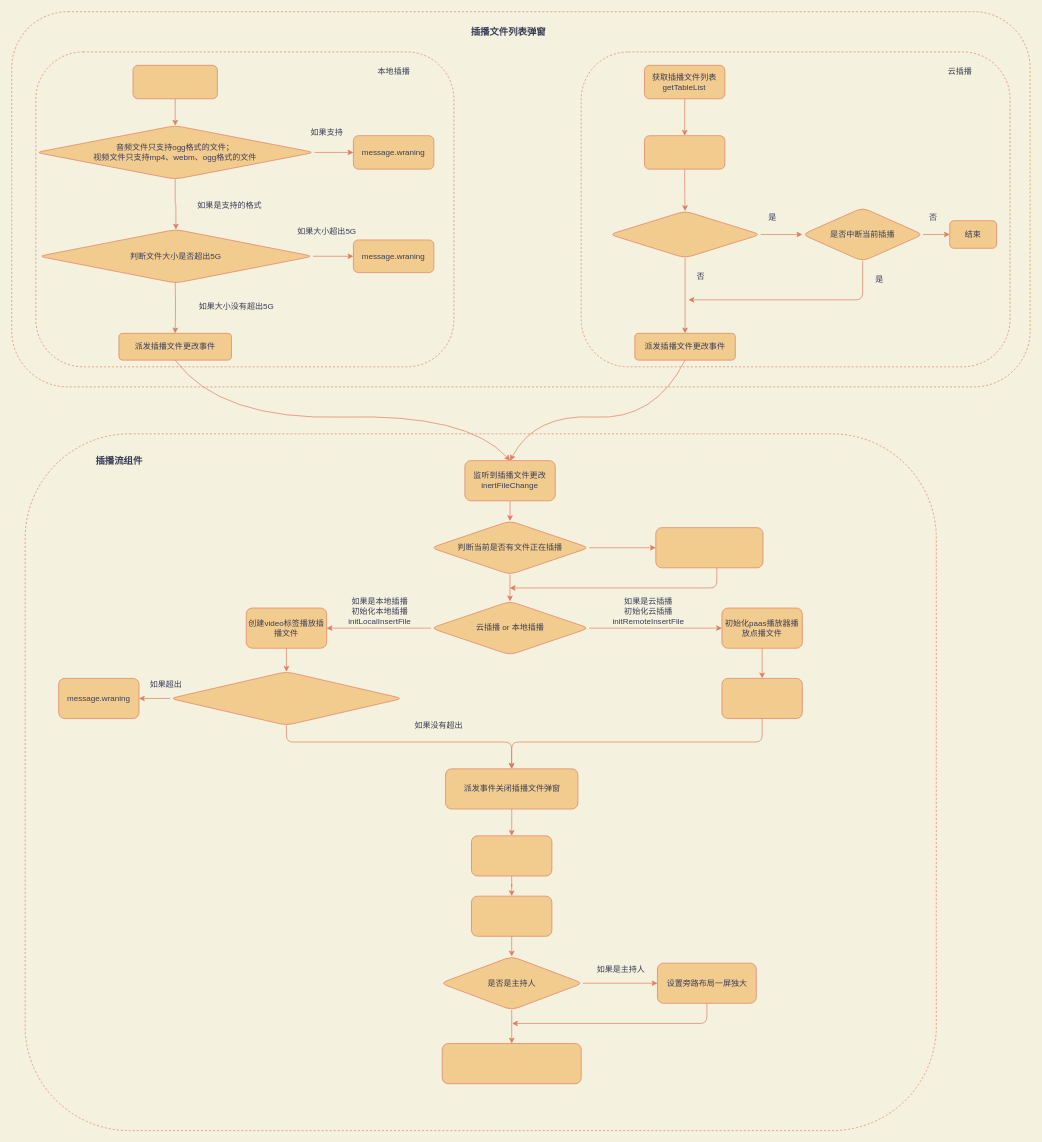
Image size: 1042x1142. Some labels were removed from this diagram. Here are the shapes that lost their labels. From the top down, the centre of each, then its label:
At pixel 174 82: "选择本地文件 selectLocalVideo".
At pixel 684 152: "选择列表项播放 handlePlay".
At pixel 685 234: "当前角色是否正在播放".
At pixel 709 547: "结束插播 closeInsertvideoHandler".
At pixel 286 698: "如果是视频文件，判断分辨率是否超出1280*720".
At pixel 761 698: "派发播放成功事件".
At pixel 511 855: "创建本地插播流 createLocalStream".
At pixel 511 915: "推流 publishInsertStream".
At pixel 511 1063: "更新麦克风状态 updateMicMuteStatusByInsert".
